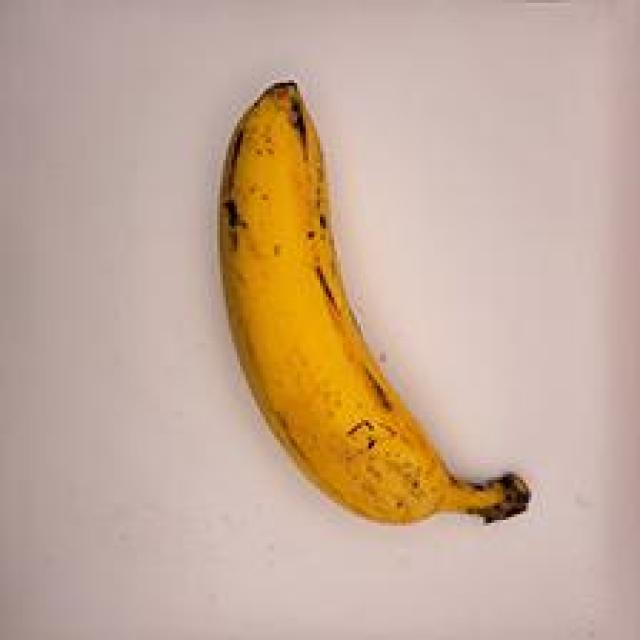Overripe: (191, 57, 545, 533)
